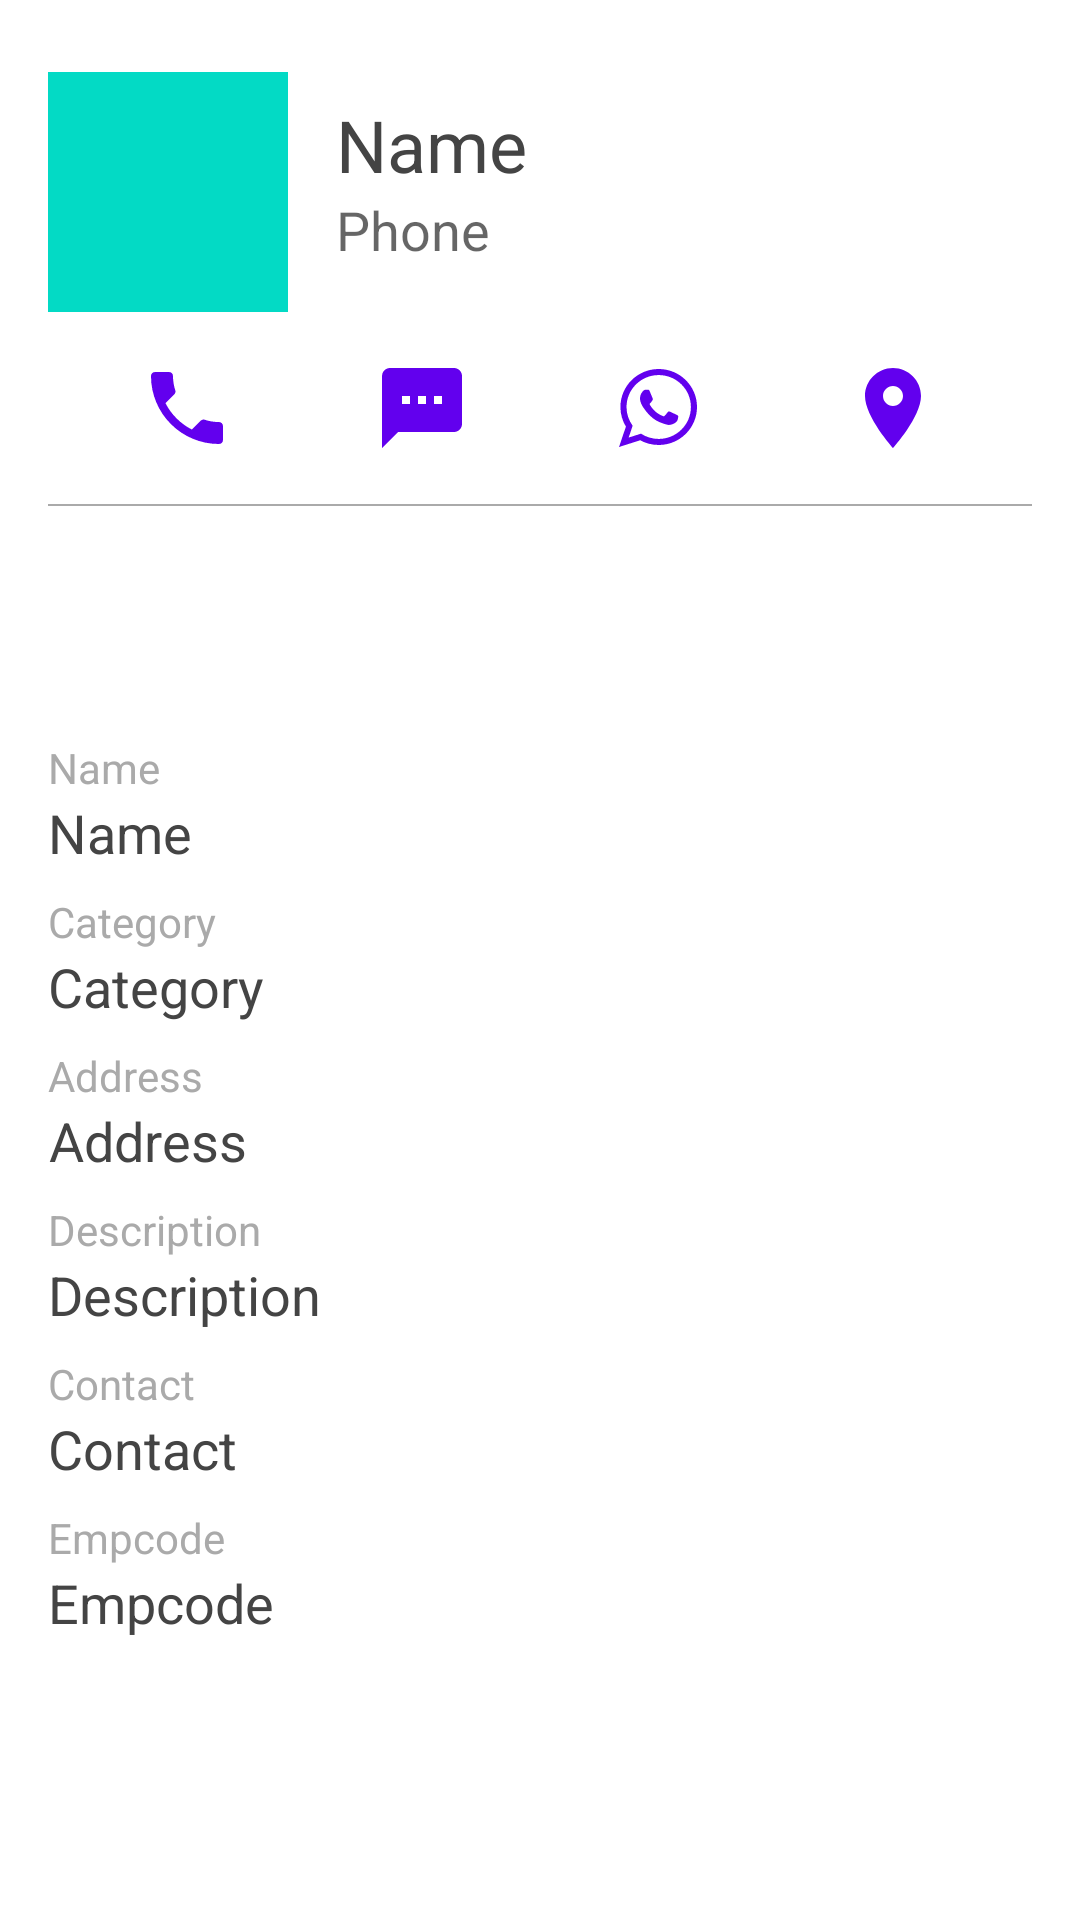

Named icons in this screenshot (1080px x 1920px) and their bounding boxes, (x1, y1, x2, y2):
place: (865, 368, 921, 448)
